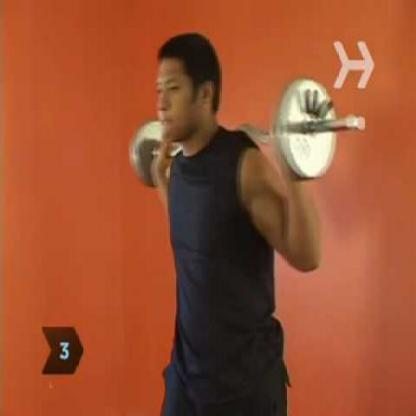Barbell: (351, 109, 369, 140)
